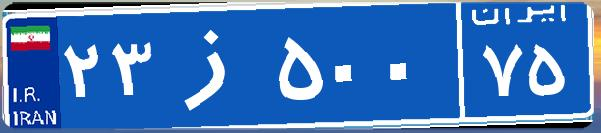0: (385, 28, 445, 110), (330, 28, 385, 110)
2: (57, 26, 110, 107)
3: (110, 28, 158, 105)
5: (273, 28, 330, 110), (525, 38, 570, 115)
7: (475, 38, 525, 113)
ز: (158, 15, 273, 115)
